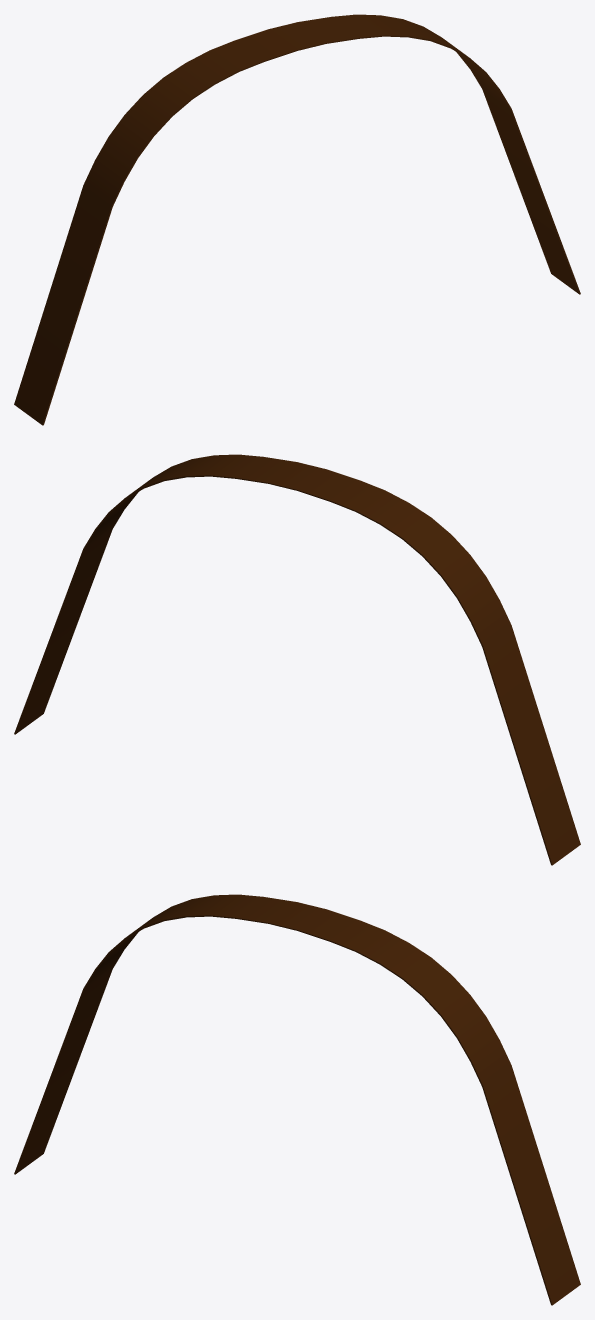
The model's file is tape_on_transport.FBX.
3 renders of one model, top to bottom at view 1: azimuth 30°, elevation 25°; view 2: azimuth 150°, elevation 25°; view 3: azimuth 330°, elevation 25°, orthographic.
Parts seen in each view (by area): view 1: tape_on_transport; view 2: tape_on_transport; view 3: tape_on_transport.
Part boxes in pixels (x1,y1,x2,y2): tape_on_transport: (14,14,580,425); tape_on_transport: (14,454,580,865); tape_on_transport: (14,894,580,1305).
Size of the model in its own units: 19.27 by 1.77 by 10.72.
